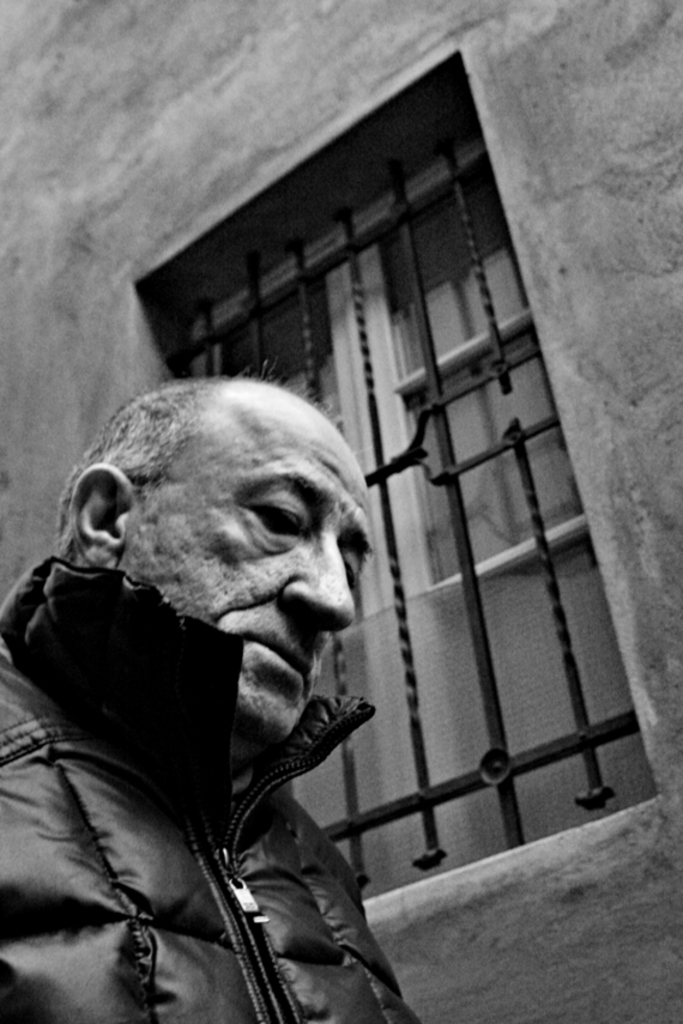Human-face: (116, 416, 376, 769)
